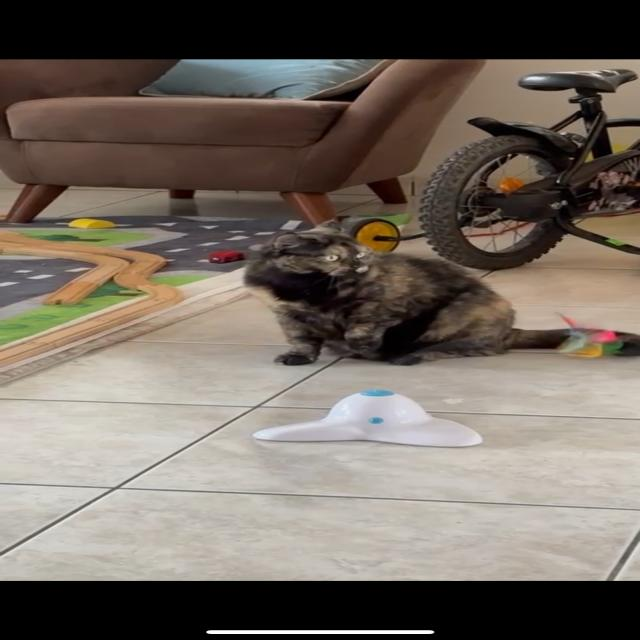authorized: (242, 216, 638, 367)
